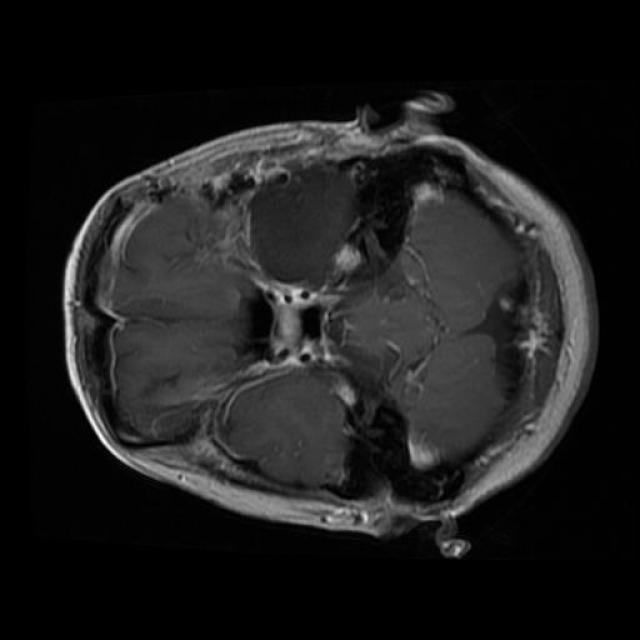Glioma: (250, 167, 354, 287)
